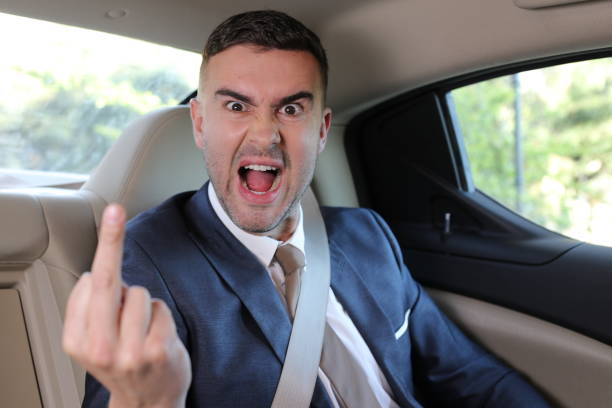insulting_gesture: (63, 205, 193, 408)
